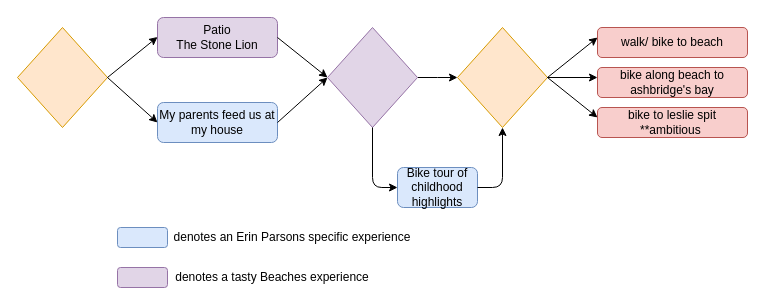
Some shapes in this 765 by 305 pixel diagram are drawn without their labels. The shapes that lost their labels are listed below. From the top down, each one's centre as x and y in pixels, then its label:
point 62,77: Dinner
point 372,77: Ice cream Ed's Real Scoop
point 502,77: Sunset
